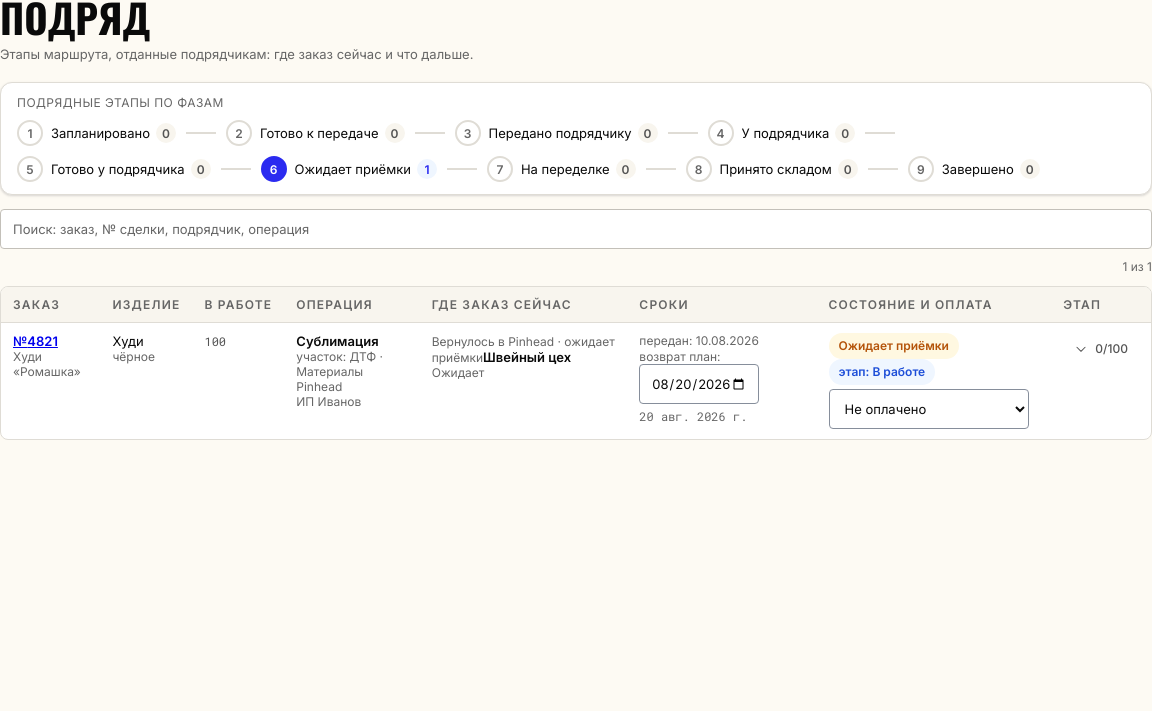
Подряд › без отметки брака его на карточке нет вовсе
The width and height of the screenshot is (1152, 711).
Step 1. Click the button "0/100" → coordinates (1101, 349), box [1063,333,1139,365]
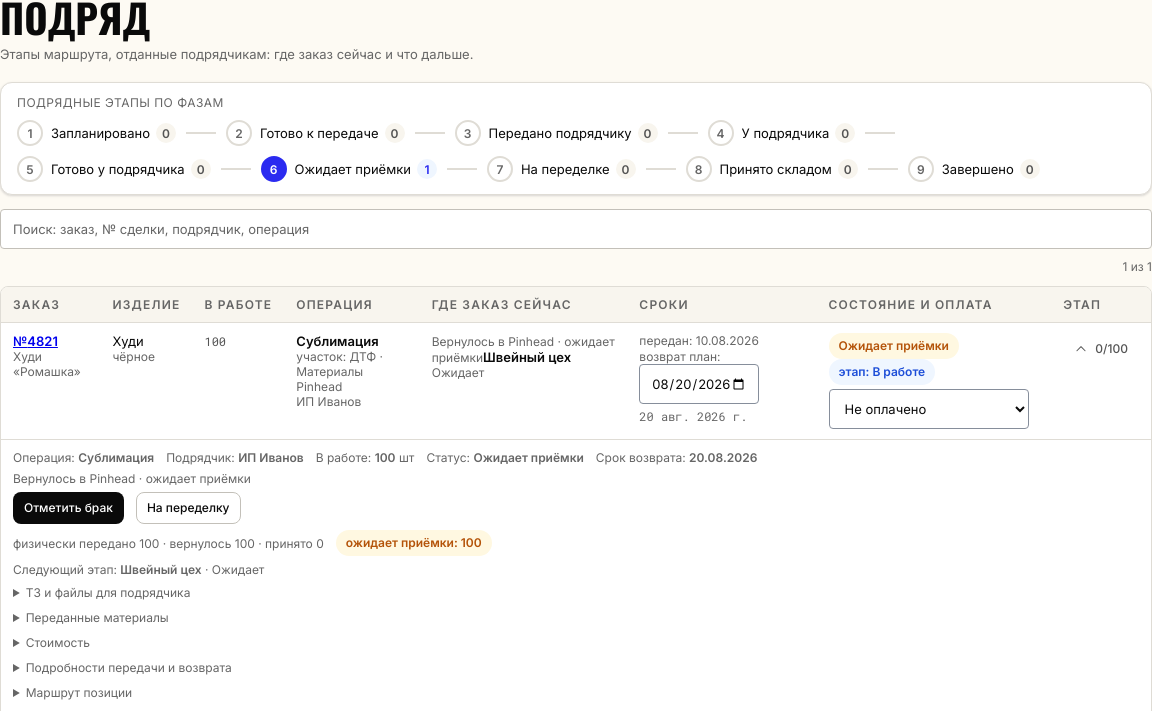
Check: the text "ожидает приёмки: 100" is shown, box [336,530,492,556]
